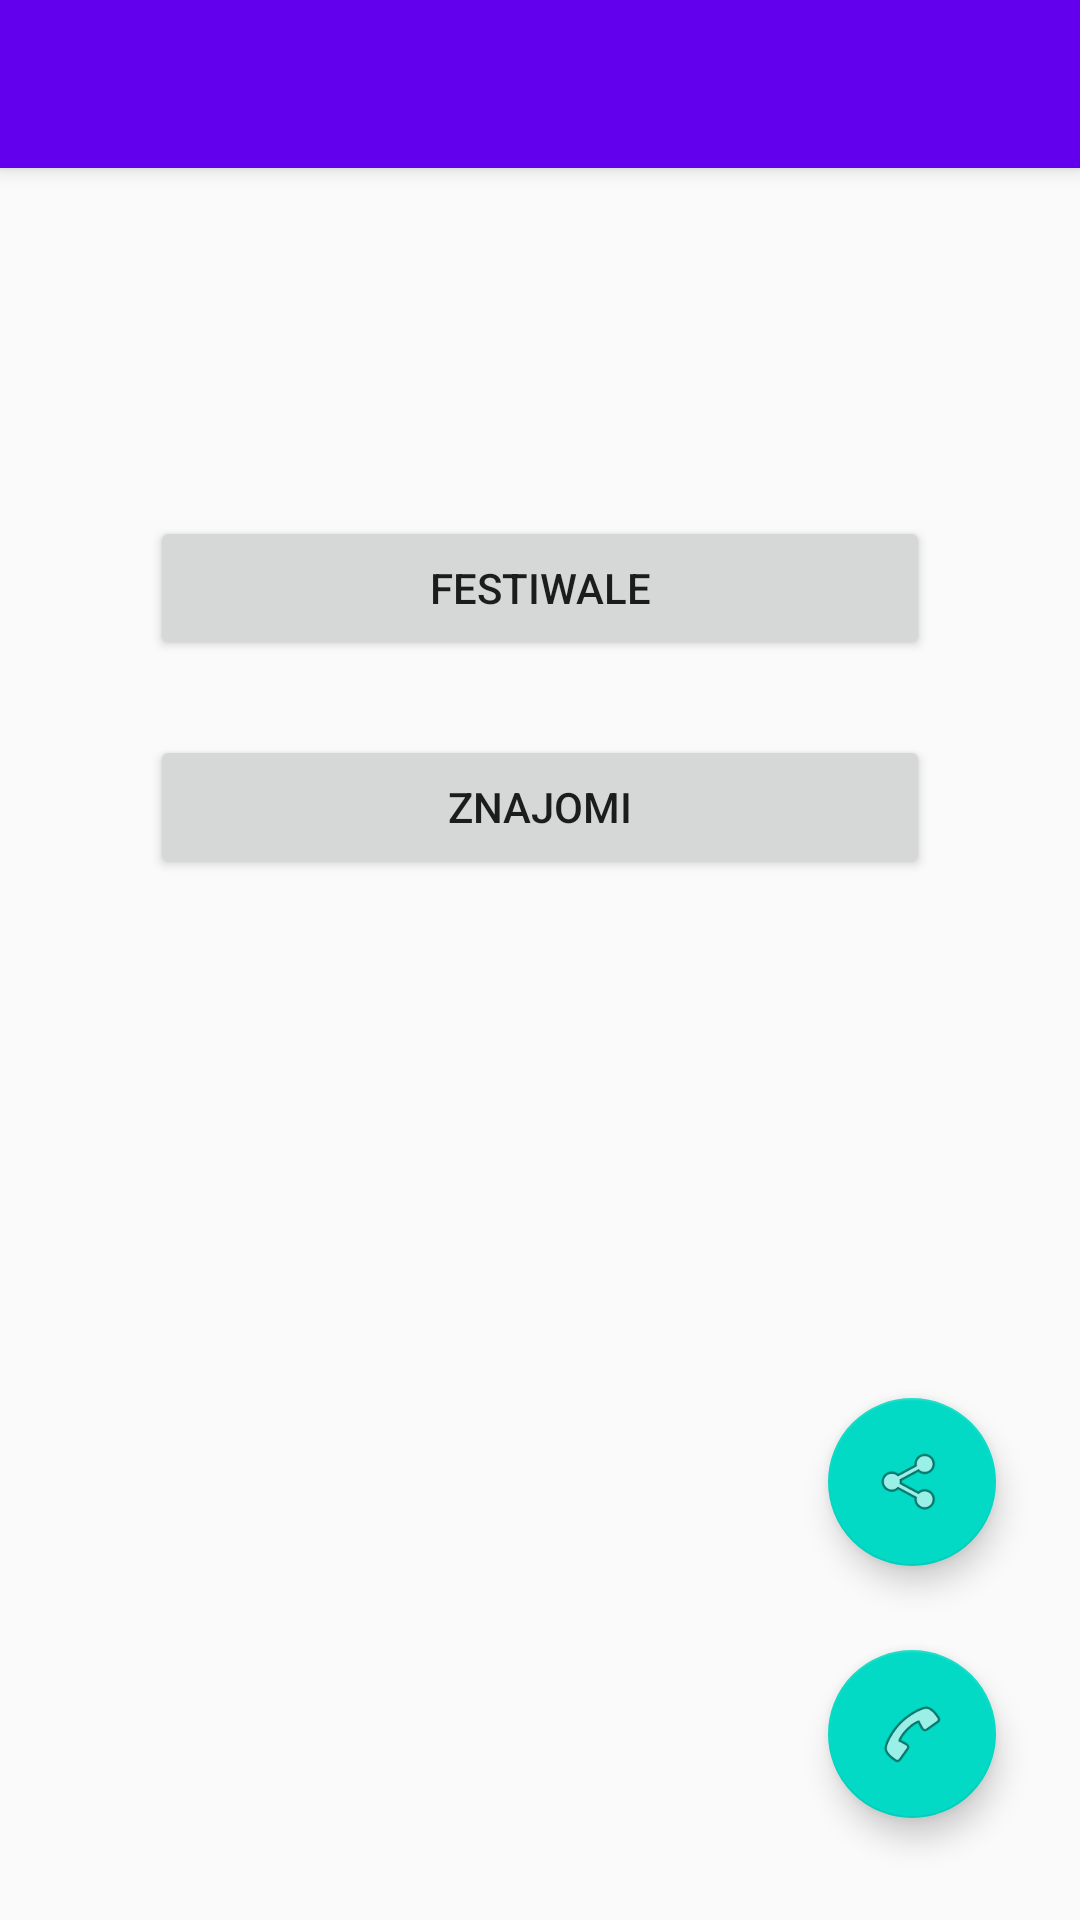

Locate icon controls on the screen. Image size 1080x1920, boxes as detection(x1, y1, x2, y2).
call: detection(828, 1650, 998, 1835)
share: detection(828, 1398, 999, 1579)
